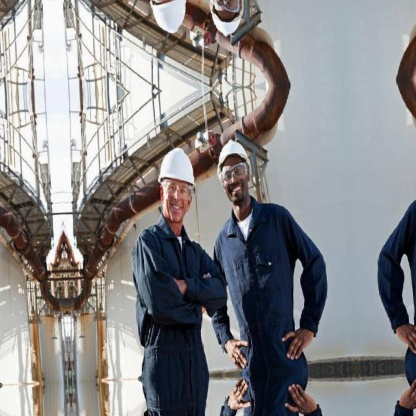white: (153, 144, 199, 195), (212, 136, 255, 176)
